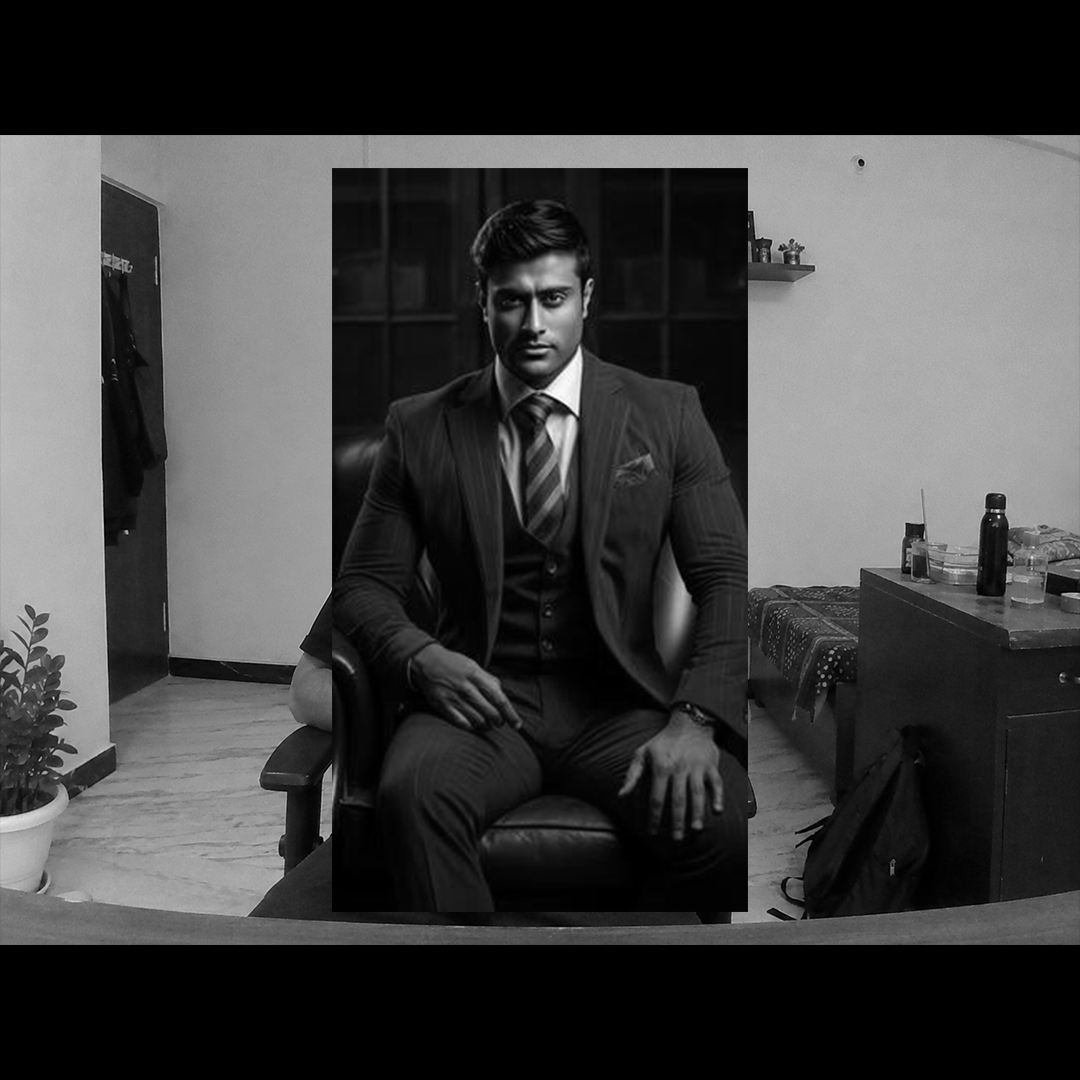Focused: (408, 206, 755, 710)
